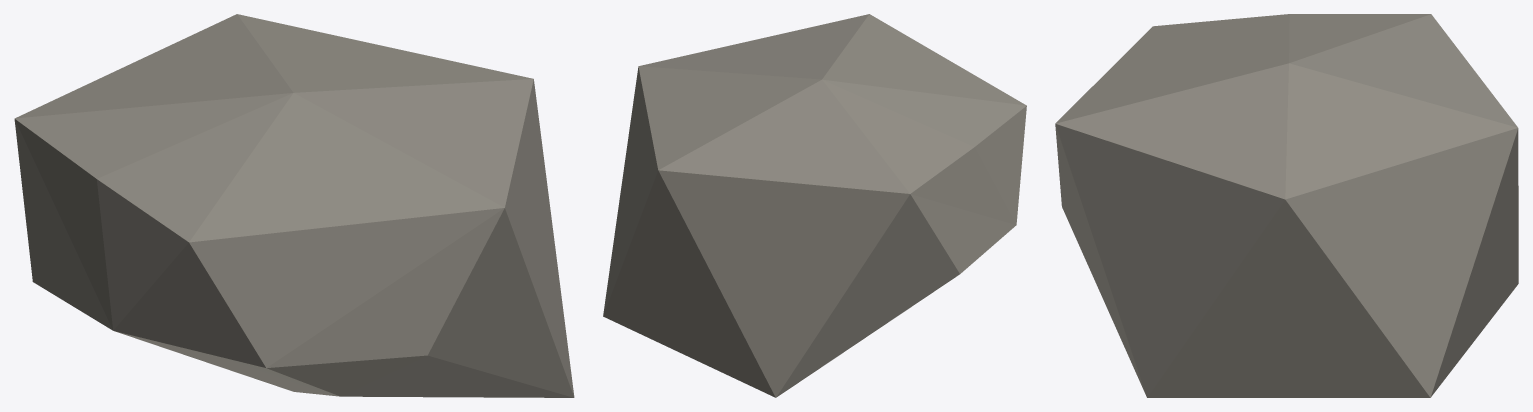
The model's file is Rock_1.glb.
3 renders of one model, left to right at view 1: azimuth 30°, elevation 25°; view 2: azimuth 150°, elevation 25°; view 3: azimuth 270°, elevation 25°, orthographic. The views are drawn at different scales.
Parts seen in each view (by area): view 1: Rock_11_LOD0; view 2: Rock_11_LOD0; view 3: Rock_11_LOD0.
Boxes of the visible parts, bbox=[...] form: Rock_11_LOD0: bbox=[14, 14, 574, 397]; Rock_11_LOD0: bbox=[603, 14, 1026, 397]; Rock_11_LOD0: bbox=[1055, 14, 1518, 397].
Size of what is drawn, in the model's own units: 0.5814 by 0.3635 by 0.5945.
1 material, 1 textured.
